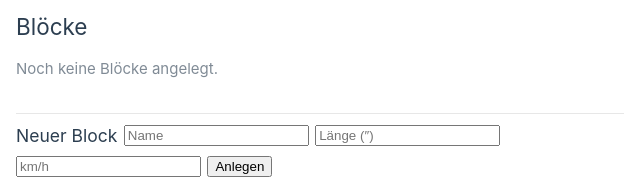
Test: BlockList › Zoll-Eingabe wird auf ganze mm gerundet und sichtbar gemacht
Type "Zoll" into the field named "Name neuer Block". click: {"x": 216, "y": 136}
box: [124,125,309,146]
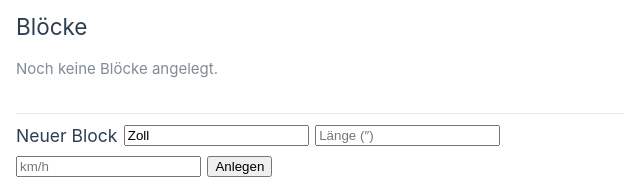
Type "40" into the number field with placeholder "Länge (″)". click: {"x": 408, "y": 136}
box: [315,125,500,146]
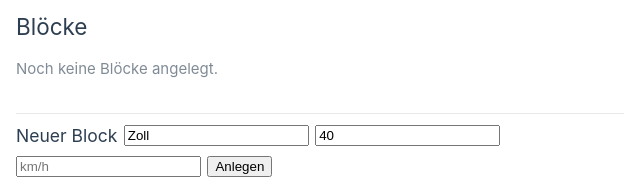
Submit the form with test id "block-create", box [16,113,624,177]
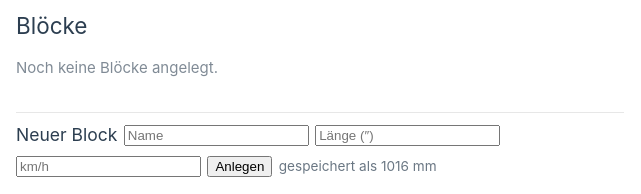
Expected: the text with test id "block-rounding" shows "1016 mm", [279,158,437,174]
